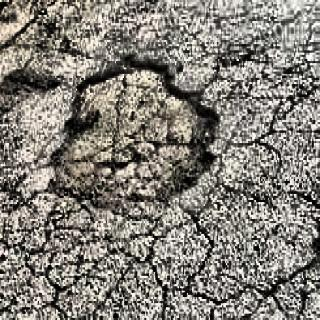alligator-crack: (38, 208, 205, 308)
crack: (235, 266, 315, 316)
pothole: (56, 45, 247, 213)
